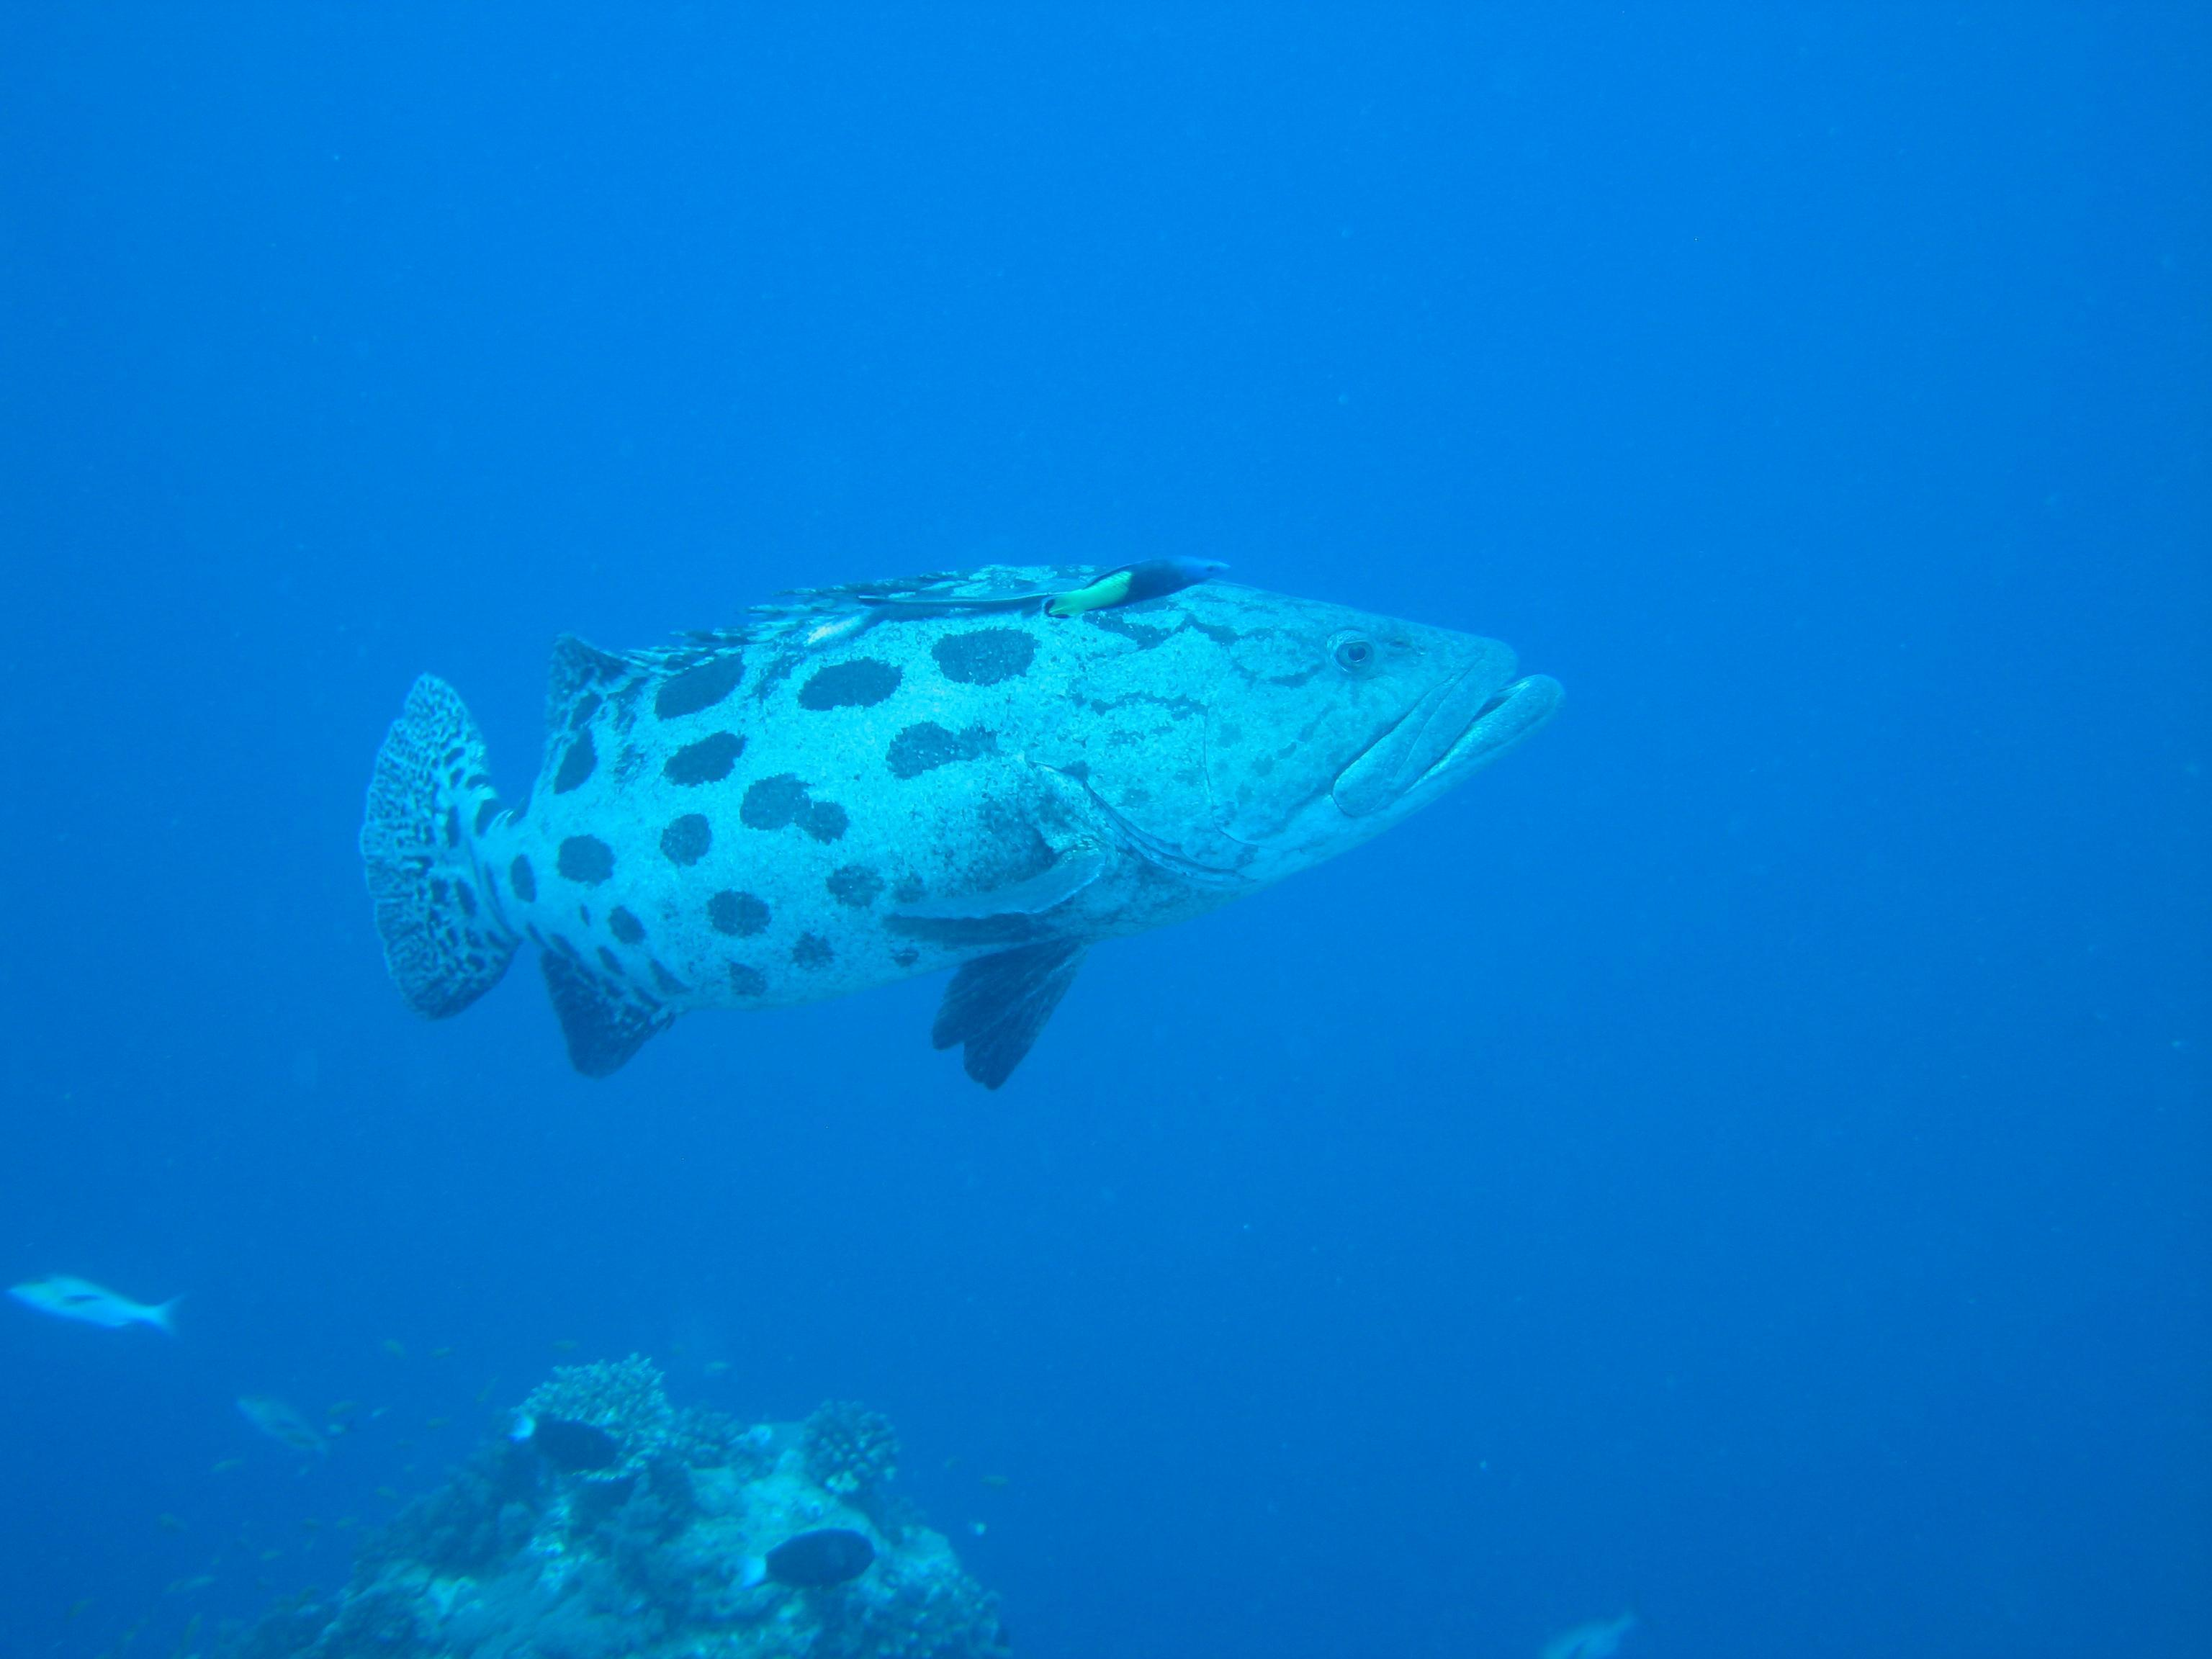Fish: (176, 451, 1688, 1178)
